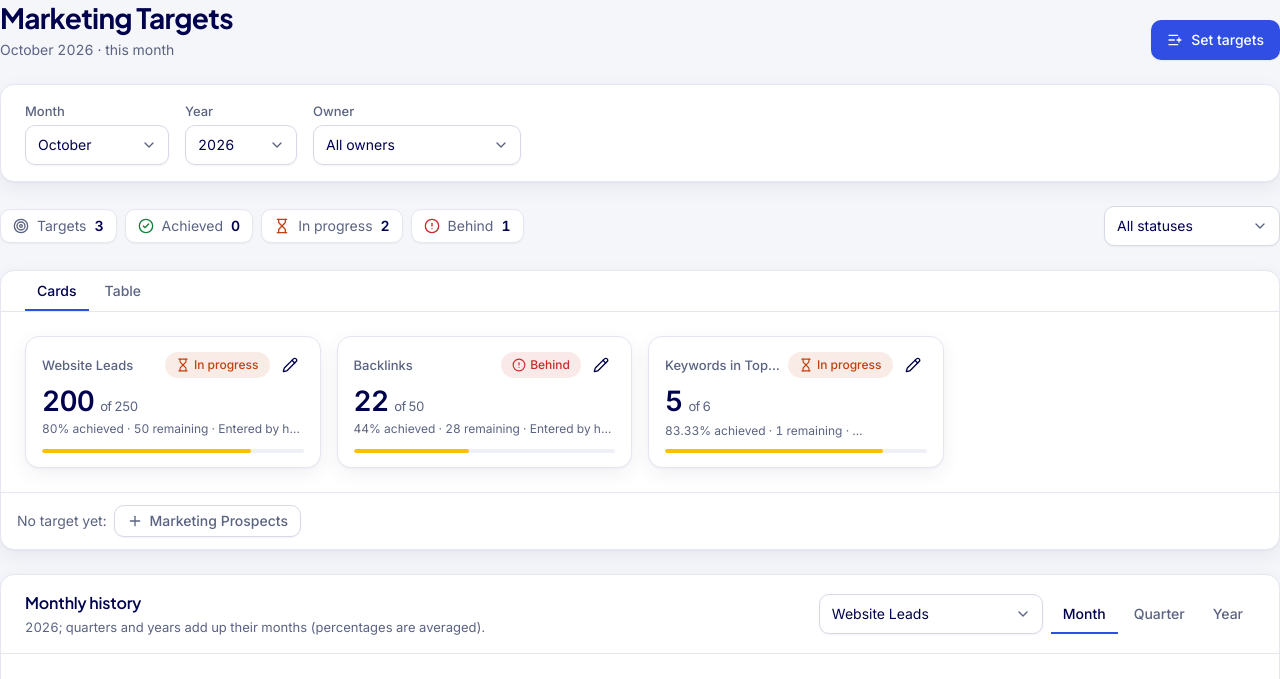
TargetsPage › never asks for an automatic actual
The image size is (1280, 679).
Step 1. Click the button named "Edit Keywords in Top 10 target" → (912, 365), box [898, 351, 926, 379]
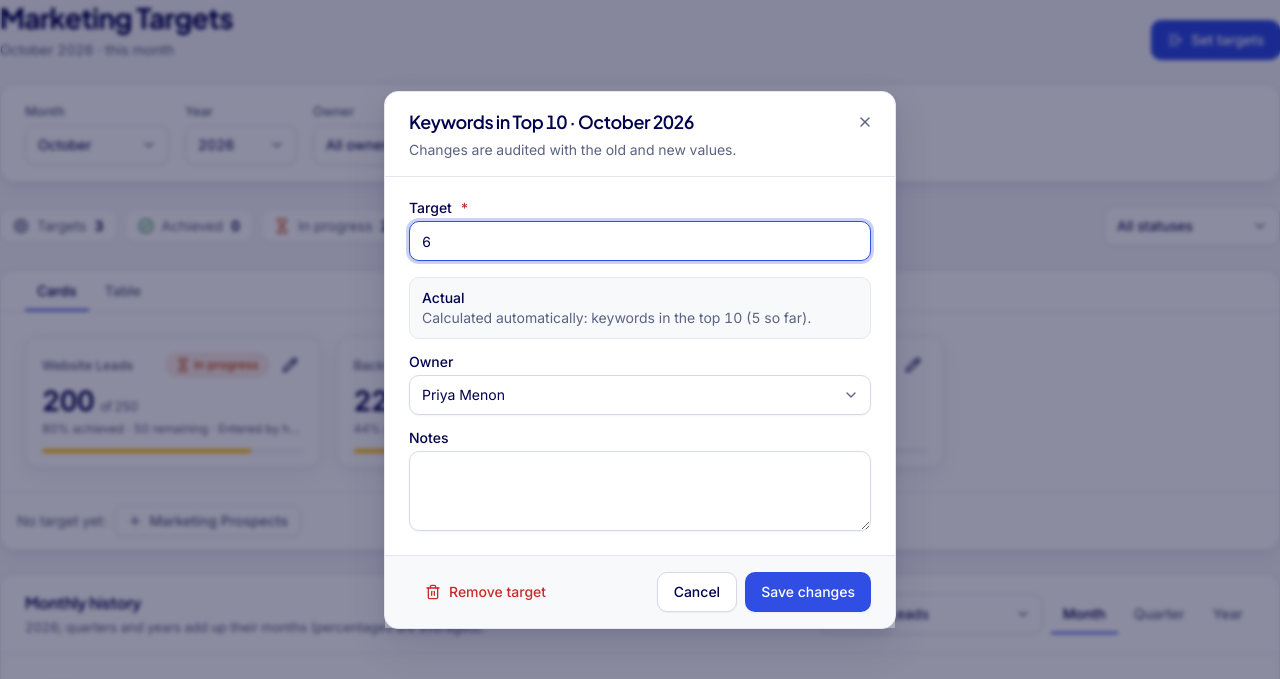
Check: the text "Calculated automatically: keywords in the top 10 (5 so far)." is shown, box [422, 308, 858, 328]
